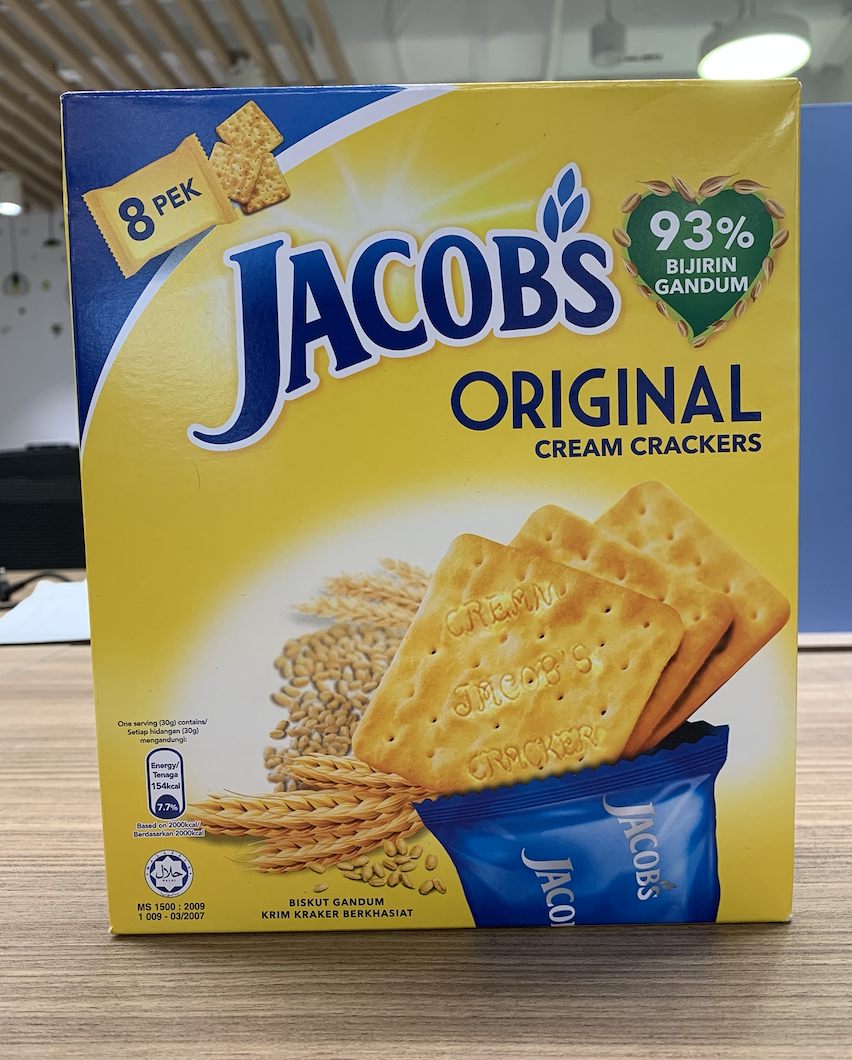crackers_200g-299g: (103, 100, 783, 930)
